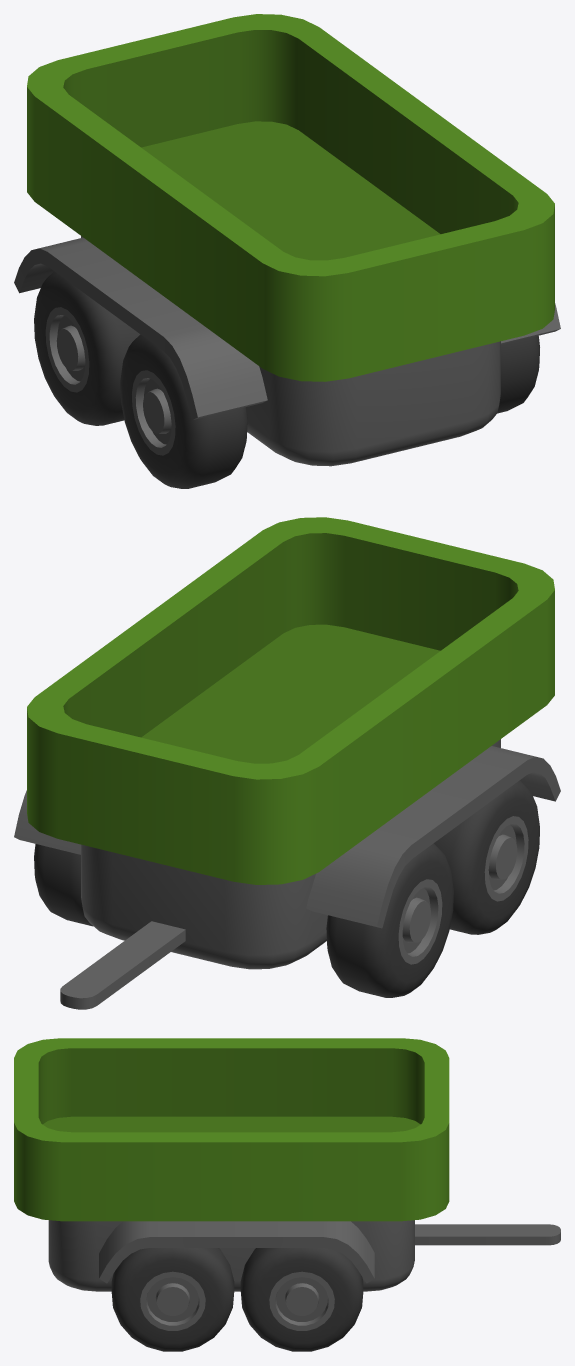
Rendered from Vehicle5.fbx.
3 views of the same model, one above another, from view 1: azimuth 30°, elevation 25°; view 2: azimuth 150°, elevation 25°; view 3: azimuth 270°, elevation 25° (orthographic). The views are drawn at different scales.
Parts seen in each view (by area): view 1: Cube.038, Cylinder.037, Cylinder.035; view 2: Cube.038, Cylinder.035, Cylinder.037; view 3: Cube.038, Cylinder.037, Cylinder.035.
Part boxes in pixels (x1,y1,x2,y2): Cube.038: (14,14,560,466); Cylinder.037: (120,334,539,488); Cylinder.035: (34,271,140,425); Cube.038: (14,517,560,1009); Cylinder.035: (34,843,453,997); Cylinder.037: (434,780,539,934); Cube.038: (14,1038,560,1291); Cylinder.037: (111,1248,234,1351); Cylinder.035: (240,1248,363,1351).
Bounding box in the file's own units: 4.88 × 8.48 × 3.45.
